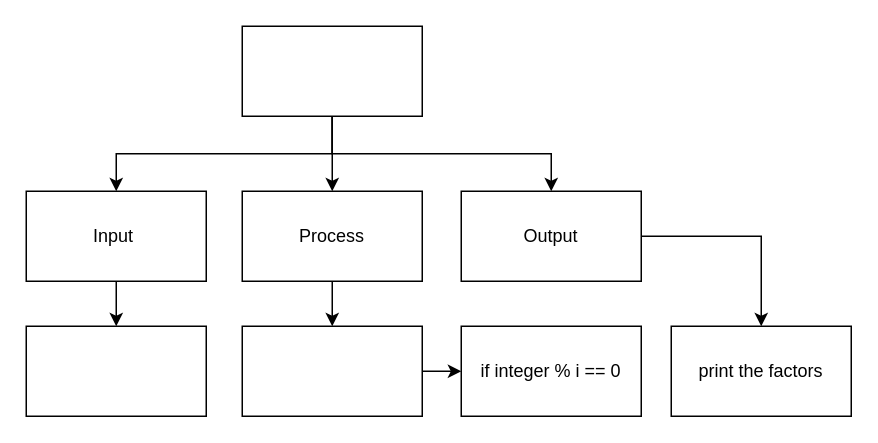
Image size: 878x443. Some labels were removed from this diagram. Here are the shapes that lost their labels. From the top down, the centre of each, then its label:
pixel 331 70: Factor Program
pixel 115 370: User inputs an integer
pixel 331 370: for i in range (1, integer + 1)
